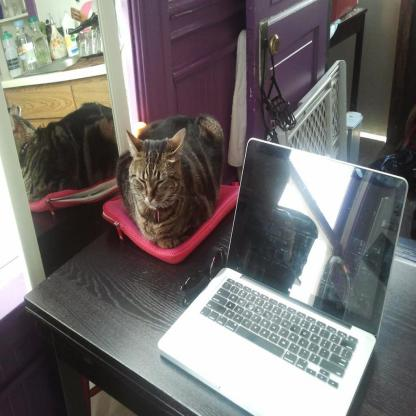board: (157, 140, 407, 414), (29, 14, 53, 67), (14, 19, 37, 72), (2, 30, 22, 77), (60, 9, 79, 58), (47, 12, 66, 60)
